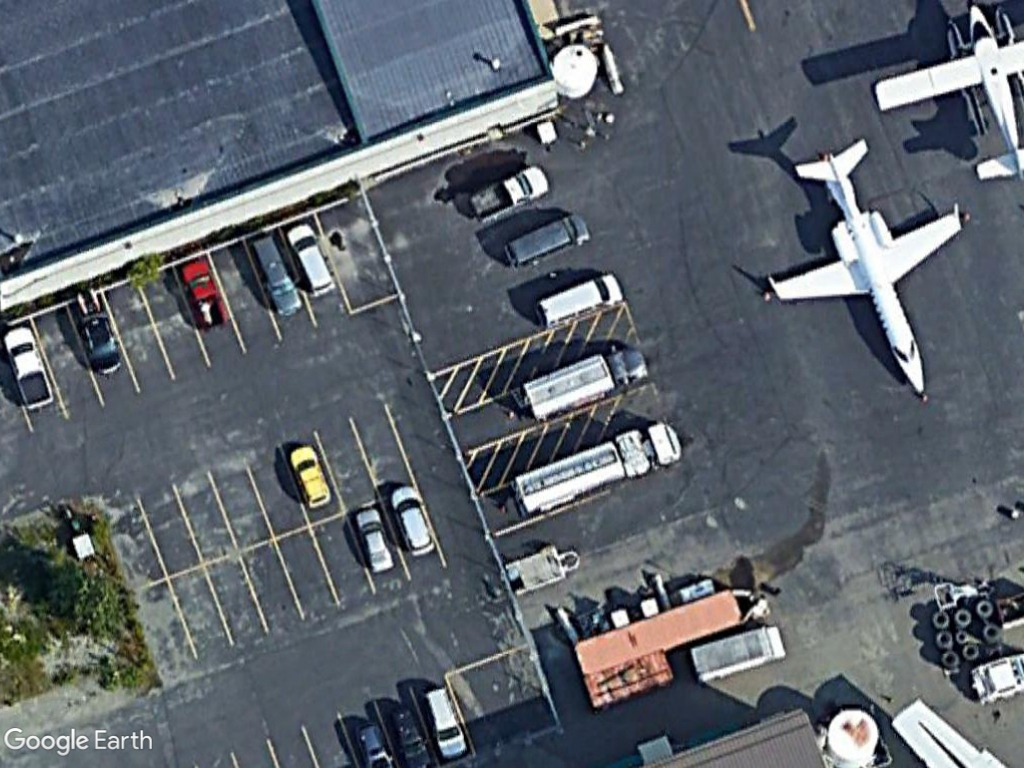car: (247, 230, 307, 319), (285, 220, 340, 300), (420, 679, 468, 762), (391, 482, 437, 562), (286, 437, 334, 512), (347, 503, 396, 575)
chartered: (761, 130, 972, 408)
other: (465, 160, 555, 229), (0, 324, 62, 415)
van: (500, 211, 596, 276), (534, 268, 627, 330)
